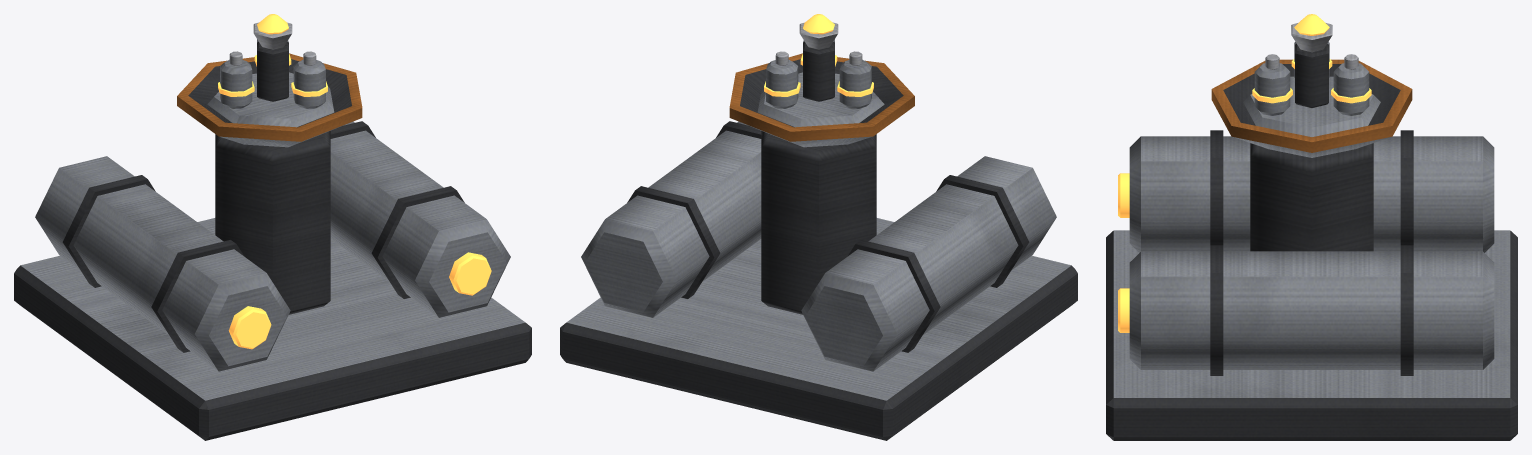
The model's file is R4X_BurnTrapDeployer_LOD1.glb.
3 renders of one model, left to right at view 1: azimuth 30°, elevation 25°; view 2: azimuth 150°, elevation 25°; view 3: azimuth 270°, elevation 25°, orthographic. The views are drawn at different scales.
Parts seen in each view (by area): view 1: R4X_BurnTrapDeployer_LOD1; view 2: R4X_BurnTrapDeployer_LOD1; view 3: R4X_BurnTrapDeployer_LOD1.
Part boxes in pixels (left/top/right/bottom): R4X_BurnTrapDeployer_LOD1: left=14, top=14, right=531, bottom=440; R4X_BurnTrapDeployer_LOD1: left=560, top=14, right=1077, bottom=440; R4X_BurnTrapDeployer_LOD1: left=1106, top=14, right=1517, bottom=440.
Bounding box in the file's own units: 0.52 × 0.476 × 0.52.
5 materials, 4 textured.
